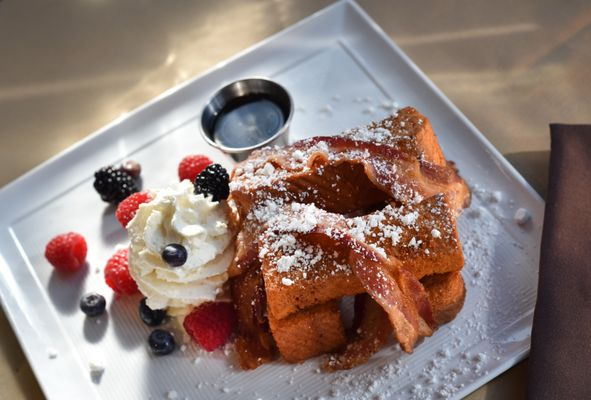sushi: (200, 76, 293, 163)
